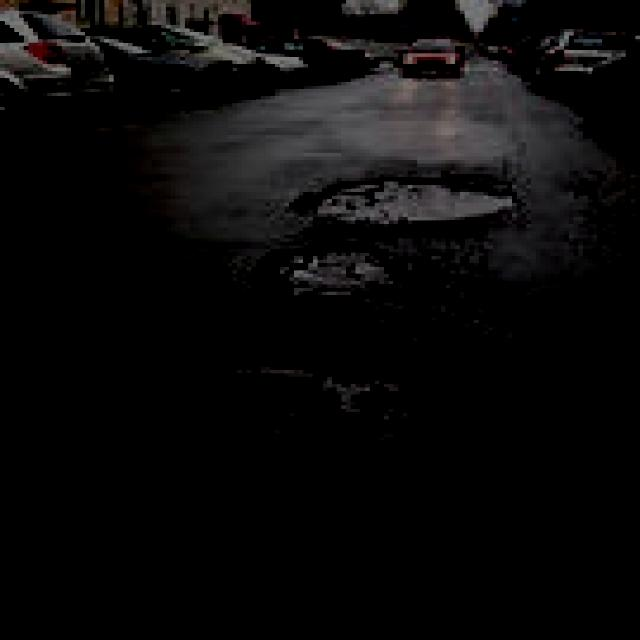Pothole: (88, 170, 518, 530)
